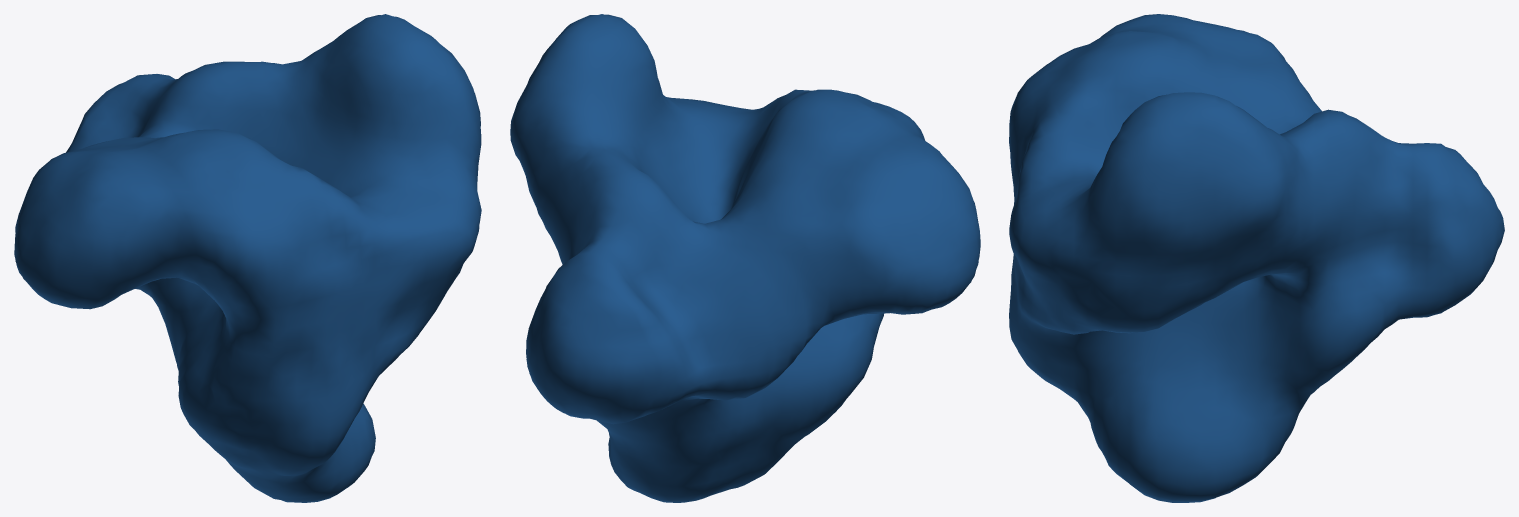
File: 3DPX-000702.glb
The picture shows the model from 3 angles, left to right: view 1: azimuth 30°, elevation 25°; view 2: azimuth 150°, elevation 25°; view 3: azimuth 270°, elevation 25°; orthographic projection.
Visible parts, largest first — view 1: surface; view 2: surface; view 3: surface.
Part boxes in pixels (x1,y1,x2,y2): surface: (14, 14, 481, 502); surface: (510, 14, 980, 502); surface: (1009, 14, 1504, 502).
Bounding box in the file's own units: 144 × 141 × 144.
